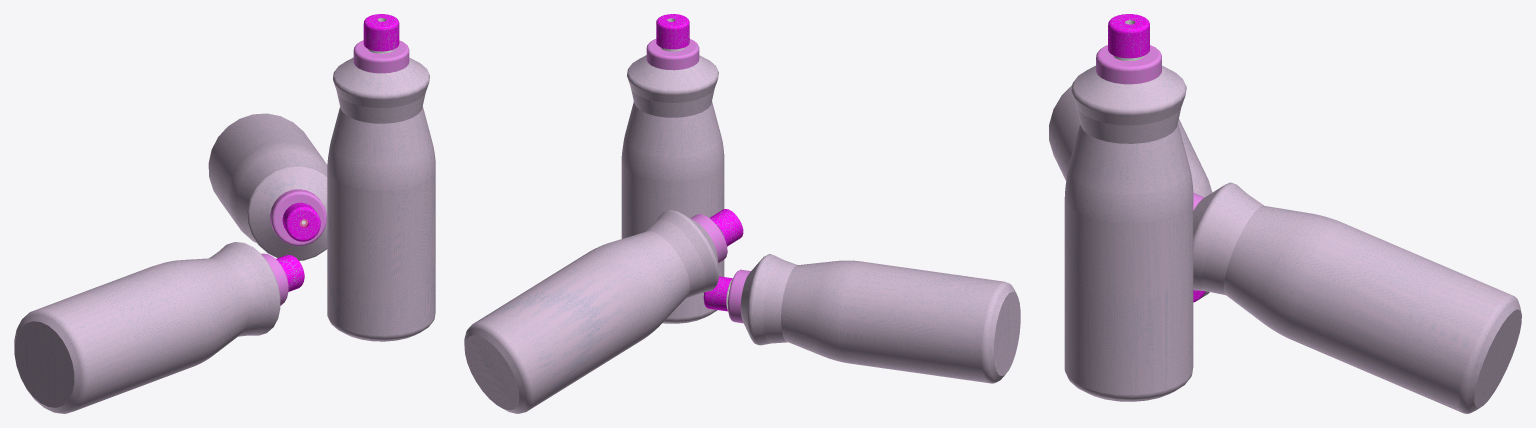
3 renders of one model, left to right at view 1: azimuth 30°, elevation 25°; view 2: azimuth 150°, elevation 25°; view 3: azimuth 270°, elevation 25°, orthographic. The views are drawn at different scales.
Parts seen in each view (by area): view 1: SketchUp (×3), Component_1 (×3), Component_2 (×3); view 2: Component_1 (×3), Component_2 (×3), SketchUp (×3); view 3: SketchUp (×3), Component_2, Component_1.
Part boxes in pixels (bbox=[...]): SketchUp (×3): bbox=[327, 14, 435, 341]; Component_1 (×3): bbox=[14, 242, 304, 413]; Component_2 (×3): bbox=[208, 113, 327, 260]; Component_1 (×3): bbox=[703, 254, 1020, 383]; Component_2 (×3): bbox=[464, 209, 743, 413]; SketchUp (×3): bbox=[621, 14, 724, 323]; SketchUp (×3): bbox=[1064, 14, 1193, 401]; Component_2: bbox=[1193, 182, 1521, 413]; Component_1: bbox=[1049, 85, 1212, 297].
Bounding box in the file's own units: 164 × 132 × 114.
